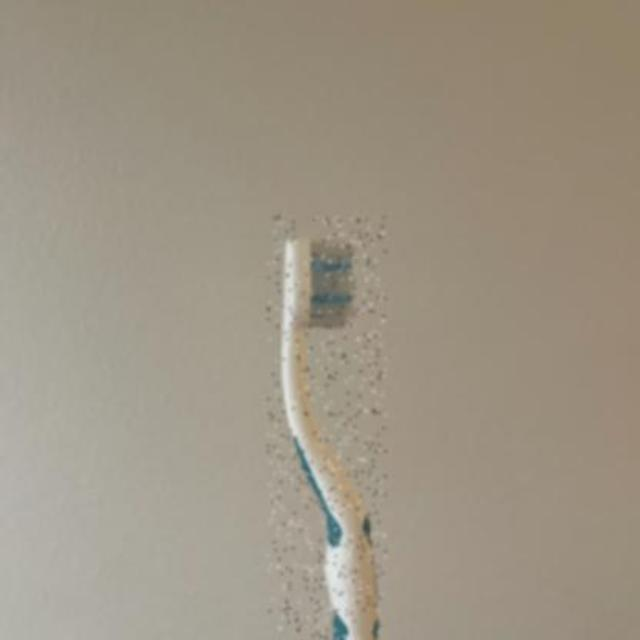toothbrush: (268, 214, 386, 640)
